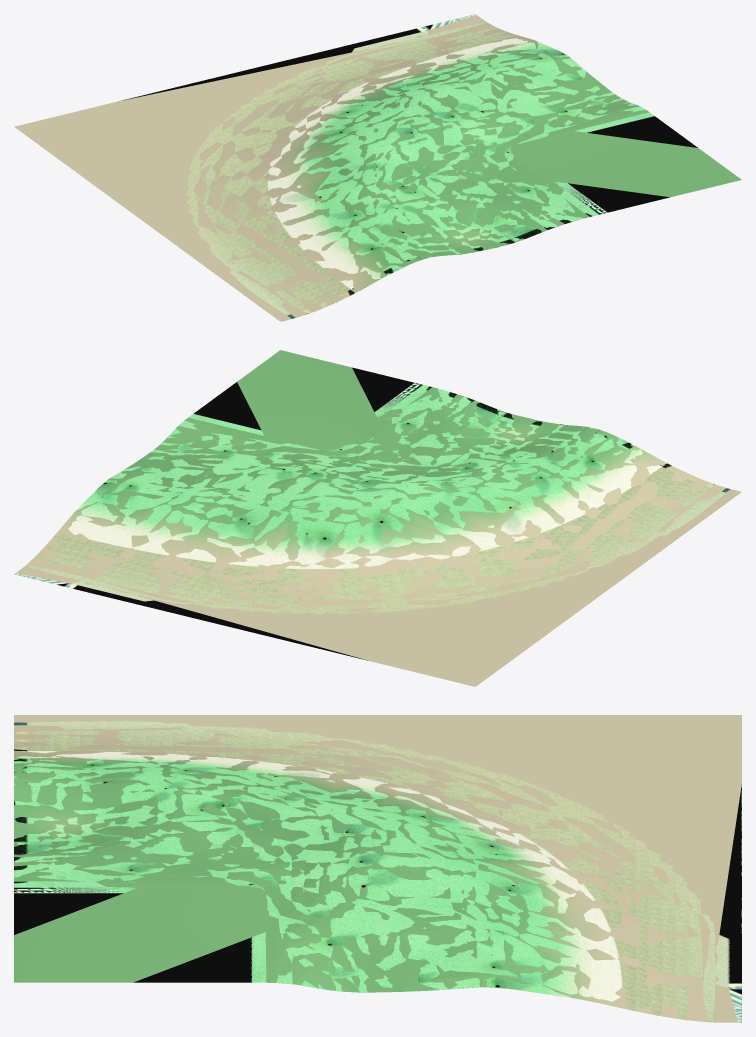
File: IslandQ_wn-transformed.glb
3 renders of one model, top to bottom at view 1: azimuth 30°, elevation 25°; view 2: azimuth 150°, elevation 25°; view 3: azimuth 270°, elevation 25°, orthographic. The views are drawn at different scales.
Parts seen in each view (by area): view 1: IslandQ_n_p_proxy, IslandQ_wn; view 2: IslandQ_n_p_proxy, IslandQ_wn; view 3: IslandQ_n_p_proxy, IslandQ_wn.
Part boxes in pixels (x1,y1,x2,y2): IslandQ_n_p_proxy: (14,15,741,321); IslandQ_wn: (119,14,697,318); IslandQ_n_p_proxy: (16,350,741,686); IslandQ_wn: (14,367,730,660); IslandQ_n_p_proxy: (14,715,741,1022); IslandQ_wn: (14,721,741,1022).
Bounding box in the file's own units: 161 × 13.29 × 161.
Materials: 1 (1 with a texture image).
